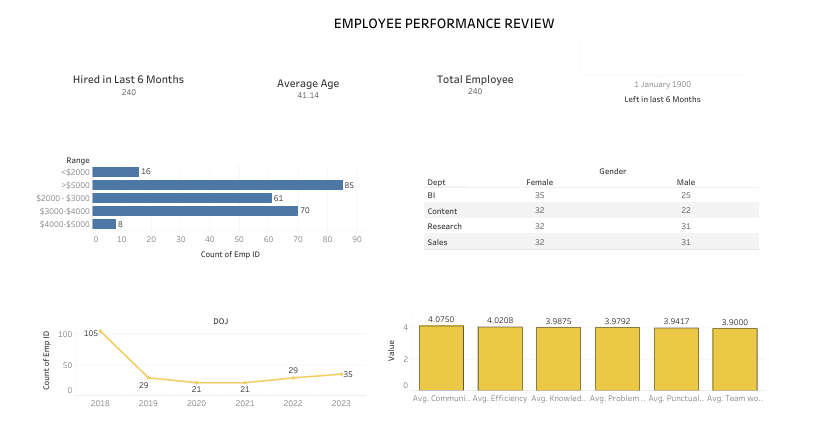

Layout of this report page (visuals, bound fields, positions):
{"tool":"tableau","page":{"name":"Dashboard 1","canvas":[1000,1000],"units":"permille","ordinal":0},"visuals":[{"type":"title","box":[4.7,9.4,990.6,65.8]},{"type":"worksheet","title":"Sheet 4","mark":"Automatic","cols":["Left Date"],"box":[655.5,67,190.4,165.7]},{"type":"worksheet","title":"Sheet 1","mark":"Text","box":[453.4,92.8,165.2,156.3]},{"type":"worksheet","title":"Sheet 3","mark":"Automatic","box":[32.8,105.8,212.1,134]},{"type":"worksheet","title":"Sheet 2","mark":"Automatic","box":[249.6,111.6,189.2,135.1]},{"type":"worksheet","title":"Sheet 6","mark":"Automatic","rows":["Range"],"cols":["Emp ID"],"box":[24,319.6,389,259.7]},{"type":"worksheet","title":"Sheet 5","mark":"Automatic","rows":["Dept"],"cols":["Gender"],"box":[477.4,344.3,384.3,205.6]},{"type":"worksheet","title":"Sheet 8","mark":"Automatic","box":[432.9,669.8,434.7,240.9]},{"type":"worksheet","title":"Sheet 7","mark":"Automatic","rows":["Emp ID"],"cols":["DOJ"],"box":[36.9,679.2,373.2,224.4]}]}

Visuals, with their boxes on the dashboard's canvas, which has no fixed pixel size, in thousandths of its width and height (x1, y1, x2, y2). These are canvas units, not pixel positions in the 827x425 screenshot, which may show the page scaled, cropped or inside an application window:
title: region(5, 9, 995, 75)
"Sheet 4" worksheet: region(656, 67, 846, 233)
"Sheet 1" worksheet (Text marks): region(453, 93, 619, 249)
"Sheet 3" worksheet: region(33, 106, 245, 240)
"Sheet 2" worksheet: region(250, 112, 439, 247)
"Sheet 6" worksheet: region(24, 320, 413, 579)
"Sheet 5" worksheet: region(477, 344, 862, 550)
"Sheet 8" worksheet: region(433, 670, 868, 911)
"Sheet 7" worksheet: region(37, 679, 410, 904)
